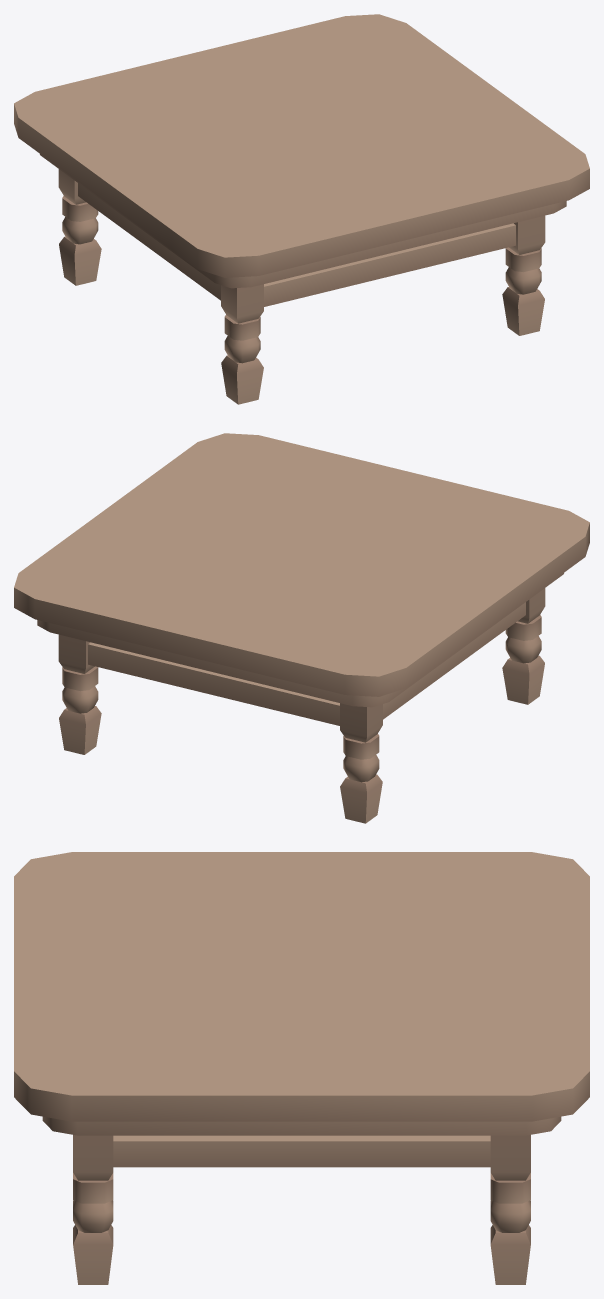
Rendered from table-crafted-low.glb.
3 views of the same model, one above another, from view 1: azimuth 30°, elevation 25°; view 2: azimuth 150°, elevation 25°; view 3: azimuth 270°, elevation 25° (orthographic). The views are drawn at different scales.
Visible parts, largest first — view 1: table-crafted-low; view 2: table-crafted-low; view 3: table-crafted-low.
Part boxes in pixels (x1=…): table-crafted-low: x1=14, y1=14, x2=589, y2=404; table-crafted-low: x1=14, y1=433, x2=589, y2=823; table-crafted-low: x1=14, y1=852, x2=589, y2=1284.
Size of the model in its own units: 1 by 0.4146 by 1.
